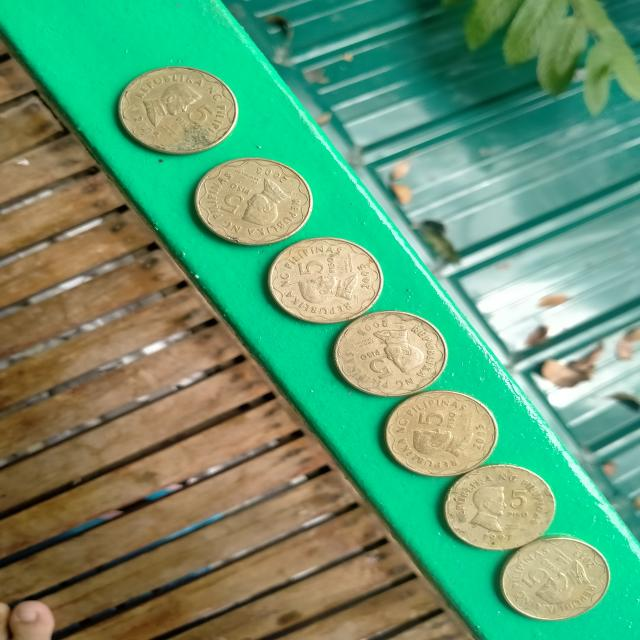5_Old_Front: (132, 74, 230, 144), (207, 167, 302, 237), (345, 316, 424, 385)
